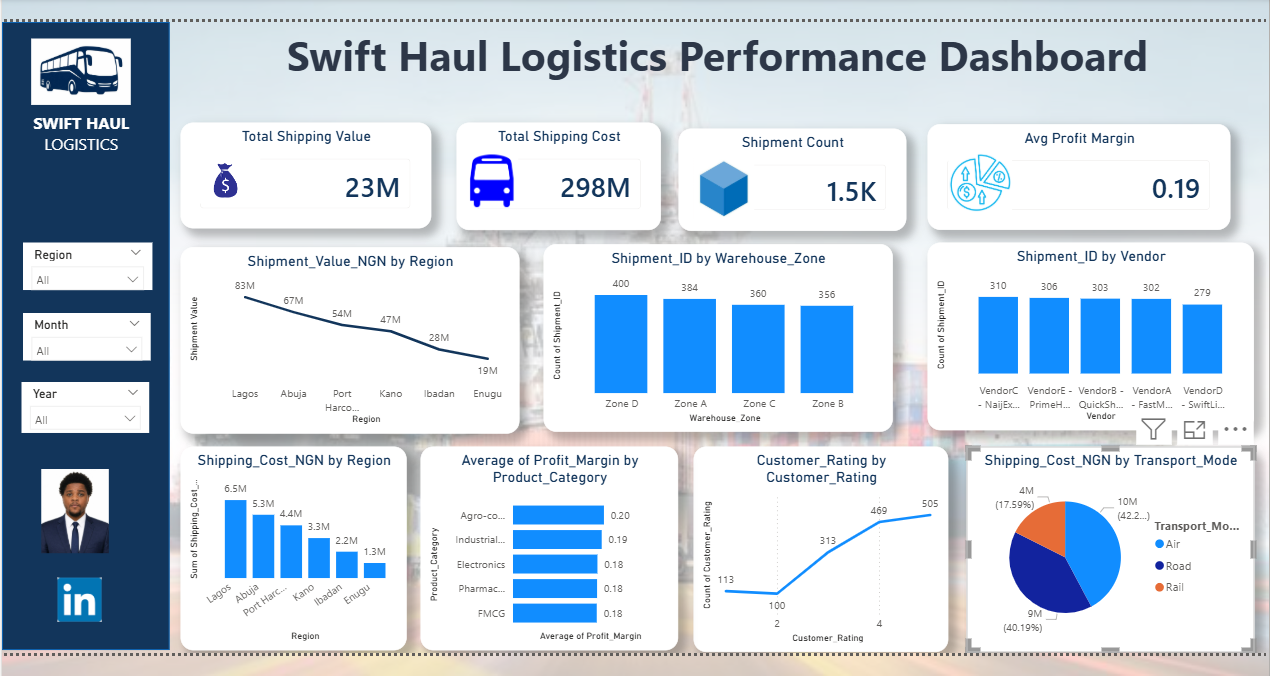

Layout of this report page (visuals, bound fields, positions):
{"tool":"powerbi","page":{"name":"Dashboard","canvas":[1476,734],"ordinal":0},"visuals":[{"type":"shape","box":[0,0,195,731.1],"z":0},{"type":"textbox","box":[190.6,0,1284.9,96.8],"z":1000},{"type":"slicer","fields":{"Values":["Raw Data.Region"]},"box":[23.8,256.1,150.4,55.1],"z":2000},{"type":"slicer","fields":{"Values":["Raw Data.Month"]},"box":[23.8,338,148.9,55.1],"z":3000},{"type":"slicer","fields":{"Values":["Raw Data.Date.Variation.Date Hierarchy.Year"]},"box":[22.3,419.9,148.9,59.6],"z":4000},{"type":"cardVisual","title":"Total Shipping Value","fields":{"Data":["Sum(Raw Data.Shipping_Cost_NGN)"]},"box":[207,117.6,291.8,123.6],"z":5000},{"type":"cardVisual","title":"Total Shipping Cost","fields":{"Data":["Sum(Raw Data.Shipment_Value_NGN)"]},"box":[528.6,117.6,238.2,125.1],"z":6000},{"type":"cardVisual","title":"Shipment Count","fields":{"Data":["CountNonNull(Raw Data.Shipment_ID)"]},"box":[787.6,123.6,265,119.1],"z":7000},{"type":"cardVisual","title":"Avg Profit Margin","fields":{"Data":["Avg(Raw Data.Profit_Margin)"]},"box":[1078,119.1,352.9,123.6],"z":8000},{"type":"lineChart","title":"Shipment_Value_NGN by Region","fields":{"Y":["Sum(Raw Data.Shipment_Value_NGN)"],"Category":["Raw Data.Region"]},"box":[207,262,394.6,217.4],"z":9000},{"type":"columnChart","title":"Shipment_ID by Warehouse_Zone","fields":{"Category":["Raw Data.Warehouse_Zone"],"Y":["CountNonNull(Raw Data.Shipment_ID)"]},"box":[629.8,257.6,406.5,218.9],"z":10000},{"type":"columnChart","title":"Shipment_ID by Vendor","fields":{"Category":["Raw Data.Vendor"],"Y":["CountNonNull(Raw Data.Shipment_ID)"]},"box":[1078,256.1,379.7,218.9],"z":11000},{"type":"columnChart","title":" Shipping_Cost_NGN by Region","fields":{"Category":["Raw Data.Region"],"Y":["Sum(Raw Data.Shipping_Cost_NGN)"]},"box":[207.8,494.1,263.7,237.5],"z":12000},{"type":"pieChart","title":"Shipping_Cost_NGN by Transport_Mode","fields":{"Category":["Raw Data.Transport_Mode"],"Y":["Sum(Raw Data.Shipping_Cost_NGN)"]},"box":[1122.7,494.1,335.2,239.2],"z":13000},{"type":"lineChart","title":" Customer_Rating by Customer_Rating","fields":{"Y":["CountNonNull(Raw Data.Customer_Rating)"],"Category":["Raw Data.Customer_Rating"]},"box":[804.9,494.1,296.8,239.2],"z":14000},{"type":"barChart","fields":{"Y":["Avg(Raw Data.Profit_Margin)"],"Category":["Raw Data.Product_Category"]},"box":[487.2,494.1,300.3,237.5],"z":15000},{"type":"textbox","box":[23.8,99.8,135.5,93.8],"z":16000},{"type":"image","box":[28.3,19.4,128,77.4],"z":17000},{"type":"image","box":[64.4,645.4,51.2,52.8],"z":18000},{"type":"image","box":[219.5,155.2,80.9,57.8],"z":19000},{"type":"image","box":[539.8,135.4,61.1,97.4],"z":20000},{"type":"image","box":[805.5,155.2,71,77.6],"z":21000},{"type":"image","box":[1101,146.9,74.3,80.9],"z":22000},{"type":"image","box":[28.8,520.3,110.2,98.3],"z":23000}]}

Visuals, with their boxes on the page's 1476x734 design canvas (x1, y1, x2, y2). These are canvas units, not pixel positions in the 1270x676 screenshot, which may show the page scaled, cropped or inside an application window:
shape: 0/0/195/731
textbox: 191/0/1476/97
slicer - Raw Data.Region: 24/256/174/311
slicer - Raw Data.Month: 24/338/173/393
slicer - Raw Data.Date.Variation.Date Hierarchy.Year: 22/420/171/480
"Total Shipping Value" cardVisual: 207/118/499/241
"Total Shipping Cost" cardVisual: 529/118/767/243
"Shipment Count" cardVisual: 788/124/1053/243
"Avg Profit Margin" cardVisual: 1078/119/1431/243
"Shipment_Value_NGN by Region" lineChart: 207/262/602/479
"Shipment_ID by Warehouse_Zone" columnChart: 630/258/1036/476
"Shipment_ID by Vendor" columnChart: 1078/256/1458/475
" Shipping_Cost_NGN by Region" columnChart: 208/494/472/732
"Shipping_Cost_NGN by Transport_Mode" pieChart: 1123/494/1458/733
" Customer_Rating by Customer_Rating" lineChart: 805/494/1102/733
barChart - Avg(Raw Data.Profit_Margin) x Raw Data.Product_Category: 487/494/788/732
textbox: 24/100/159/194
image: 28/19/156/97
image: 64/645/116/698
image: 220/155/300/213
image: 540/135/601/233
image: 806/155/876/233
image: 1101/147/1175/228
image: 29/520/139/619
